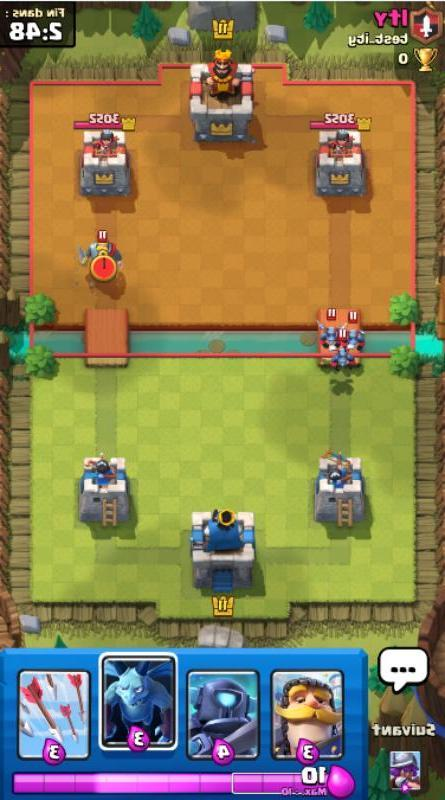enemy_knight: (73, 227, 128, 272)
enemy_minions: (329, 341, 358, 379), (317, 308, 343, 346), (343, 309, 367, 349)
